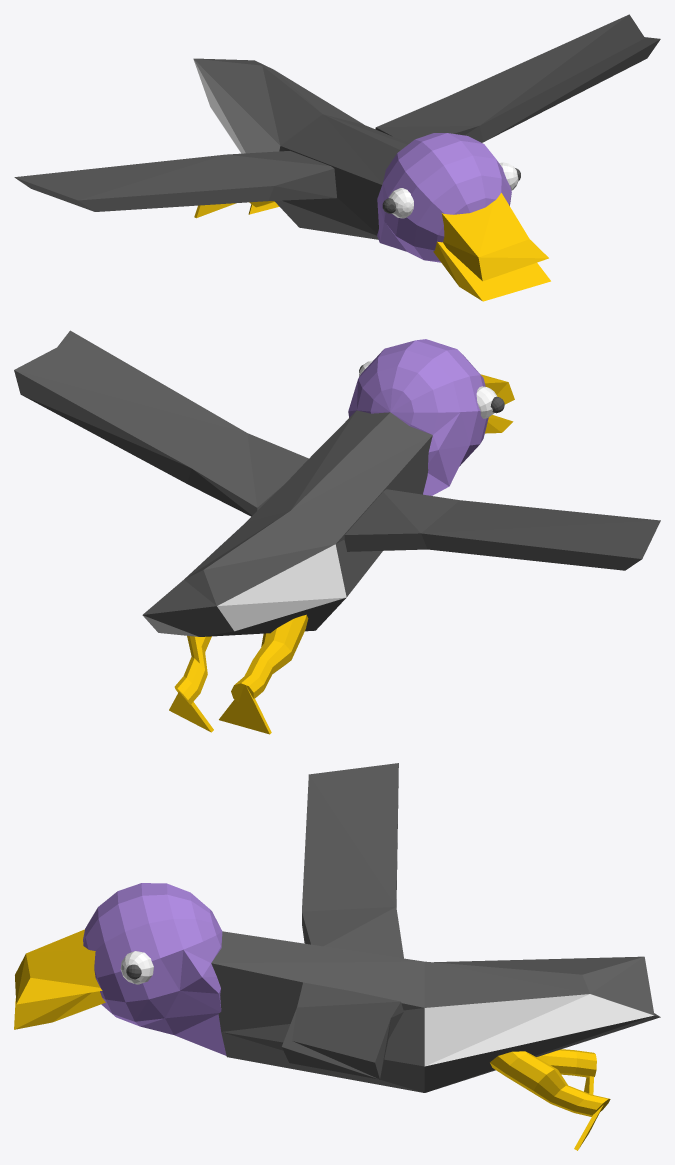
The model's file is Bird.glb.
3 renders of one model, top to bottom at view 1: azimuth 30°, elevation 25°; view 2: azimuth 150°, elevation 25°; view 3: azimuth 270°, elevation 25°, orthographic. The views are drawn at different scales.
Parts seen in each view (by area): view 1: group1099839163, group1692059423, group609062969, group670811835, group361199585; view 2: group1099839163, group609062969, group1692059423, group1484828750, group1322903102; view 3: group1099839163, group1692059423, group609062969, group670811835, group1322903102, group361199585, group1484828750.
Part boxes in pixels (bbox=[...]): group1099839163: bbox=[193, 58, 518, 262]; group1692059423: bbox=[14, 151, 336, 211]; group609062969: bbox=[375, 14, 660, 143]; group670811835: bbox=[441, 193, 548, 281]; group361199585: bbox=[433, 241, 550, 301]; group1099839163: bbox=[142, 339, 497, 636]; group609062969: bbox=[14, 330, 308, 516]; group1692059423: bbox=[344, 489, 660, 570]; group1484828750: bbox=[219, 614, 308, 734]; group1322903102: bbox=[169, 636, 213, 732]; group1099839163: bbox=[83, 883, 660, 1092]; group1692059423: bbox=[302, 763, 403, 958]; group609062969: bbox=[282, 982, 403, 1079]; group670811835: bbox=[15, 929, 102, 1004]; group1322903102: bbox=[490, 1051, 610, 1150]; group361199585: bbox=[14, 991, 105, 1029]; group1484828750: bbox=[536, 1049, 596, 1094].
Bounding box in the file's own units: 0.8929 × 0.3103 × 0.7503.
